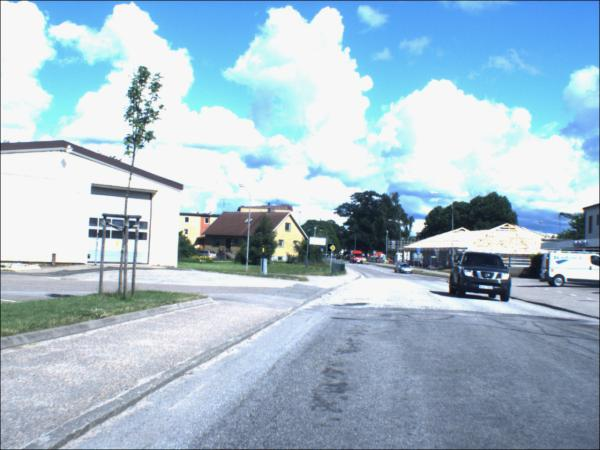PRIORITY_ROAD: (328, 245, 336, 253), (340, 253, 344, 257)
